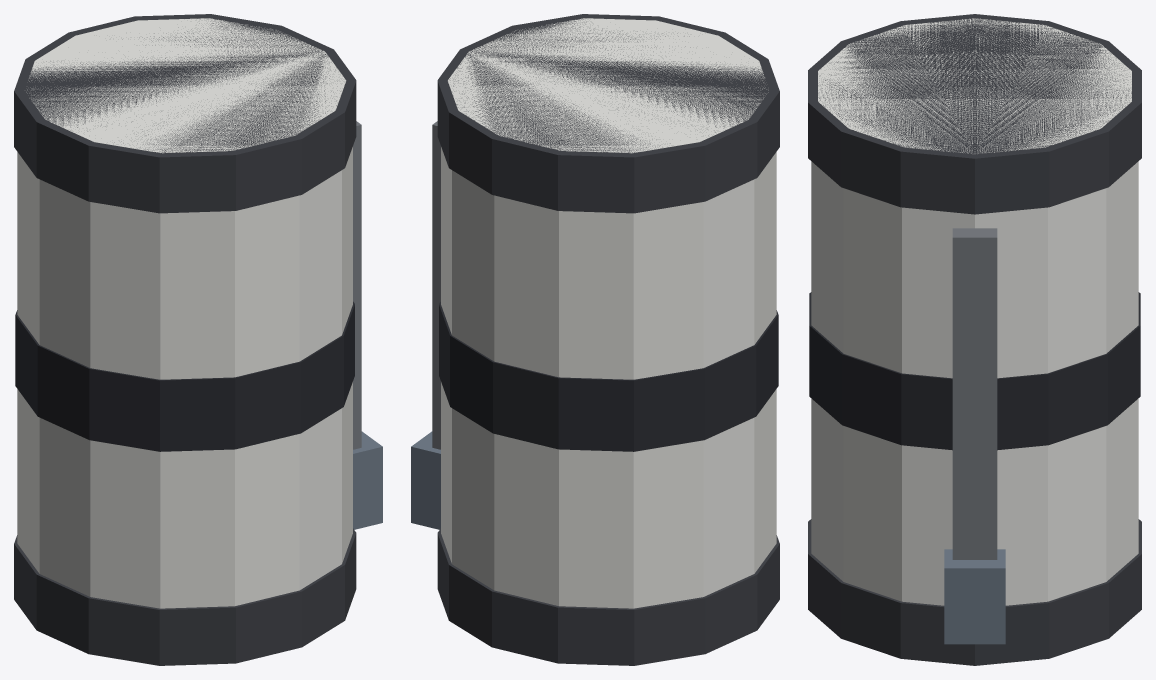
File: Tank_S_Short.fbx
3 renders of one model, left to right at view 1: azimuth 30°, elevation 25°; view 2: azimuth 150°, elevation 25°; view 3: azimuth 270°, elevation 25°, orthographic.
Parts seen in each view (by area): view 1: Tank_S_Short; view 2: Tank_S_Short; view 3: Tank_S_Short.
Boxes of the visible parts, x1,y1,x2,y2 form: Tank_S_Short: (14, 14, 382, 665); Tank_S_Short: (411, 14, 779, 665); Tank_S_Short: (808, 14, 1141, 665).
Size of the model in its own units: 1.36 by 2 by 1.19.
Materials: 1 (1 with a texture image).
